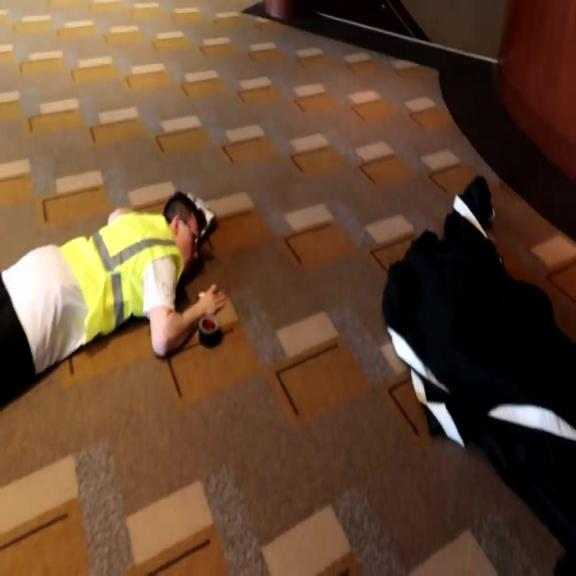safety_vest: (61, 206, 184, 345)
